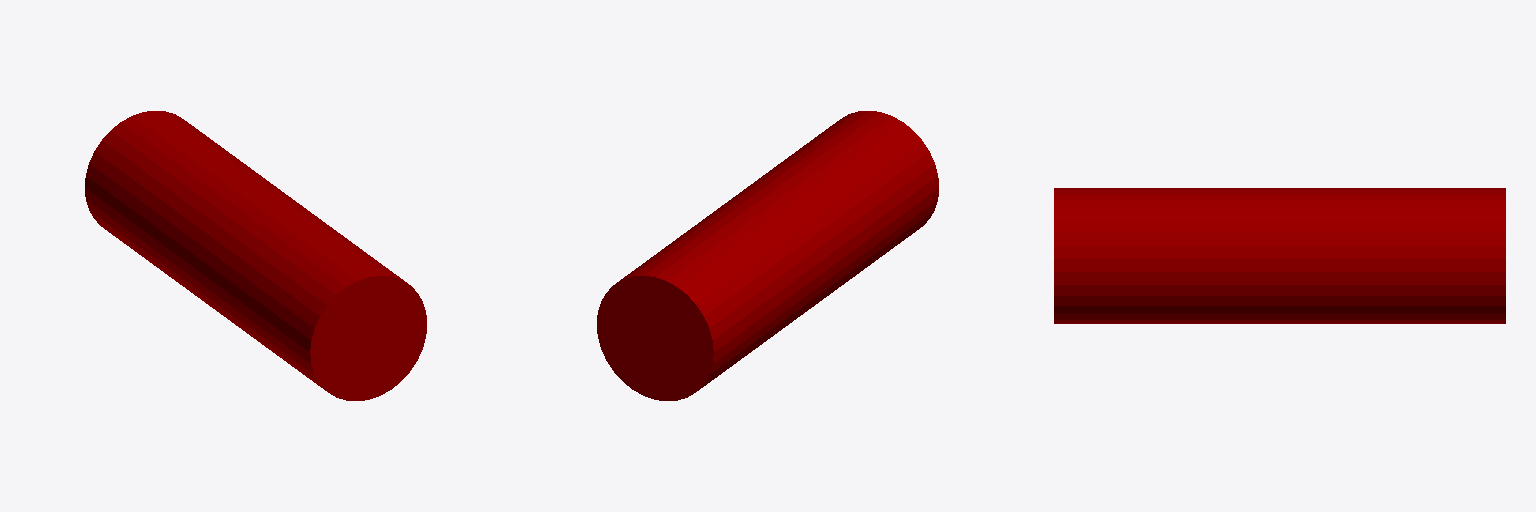
Rendered from laser.obj.
3 views of the same model, side by side, from view 1: azimuth 30°, elevation 25°; view 2: azimuth 150°, elevation 25°; view 3: azimuth 270°, elevation 25° (orthographic).
Visible parts, largest first — view 1: Cylinder; view 2: Cylinder; view 3: Cylinder.
Part boxes in pixels (left/top/right/bottom): Cylinder: left=85, top=111, right=426, bottom=400; Cylinder: left=597, top=111, right=938, bottom=400; Cylinder: left=1054, top=188, right=1505, bottom=323.
Size of the model in its own units: 1.2 by 1.2 by 4.